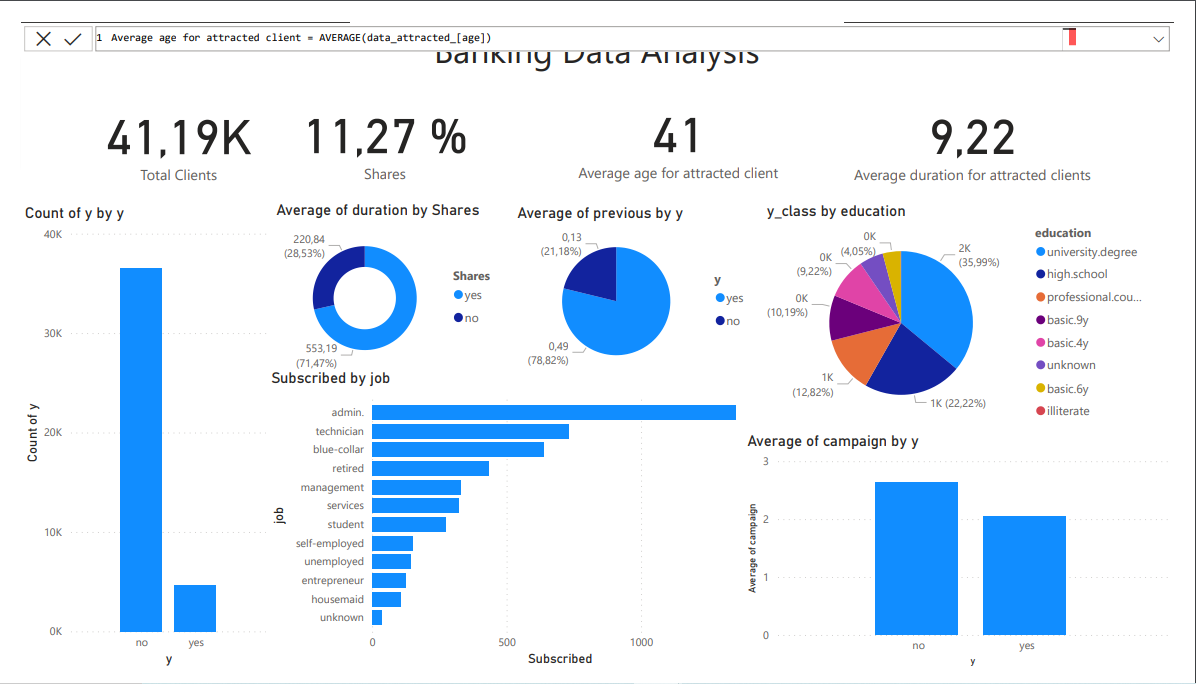

Layout of this report page (visuals, bound fields, positions):
{"tool":"powerbi","page":{"name":"OverView","canvas":[1280,720],"ordinal":1},"visuals":[{"type":"card","fields":{"Values":["CountNonNull(data.default)"]},"box":[71.8,76.3,208.5,109.4],"z":0},{"type":"textbox","box":[0,213.5,280,150],"z":1000},{"type":"card","fields":{"Values":["data_attracted_.Share for attracted clients"]},"box":[279.1,75.2,250.6,109.4],"z":2000},{"type":"card","fields":{"Values":["data_attracted_.Average age for attracted client"]},"box":[546.4,74,367.2,109.1],"z":3000},{"type":"card","fields":{"Values":["data_attracted_.Average duration for attracted clients"]},"box":[875.8,73.8,361.8,113.2],"z":4000},{"type":"columnChart","fields":{"Category":["data.y1"],"Y":["CountNonNull(data.y)"]},"box":[0,201.8,279.4,518.2],"z":5000},{"type":"donutChart","fields":{"Y":["Avg(data.duration)1"],"Category":["data.y1"]},"box":[279.4,198.2,267.1,196.9],"z":6000},{"type":"pieChart","fields":{"Category":["data.y1"],"Y":["Avg(data.previous)"]},"box":[546.5,201.8,270.8,196.9],"z":7000},{"type":"barChart","fields":{"Category":["data.job1"],"Y":["Sum(data.y_class)"]},"box":[273.5,384.9,553.3,335.1],"z":8000},{"type":"pieChart","fields":{"Category":["data.education"],"Y":["Sum(data.y_class)"]},"box":[823.3,199.7,436,249.7],"z":9000},{"type":"columnChart","fields":{"Category":["data.y"],"Y":["Avg(data.campaign)"]},"box":[802.6,454.3,477.4,265.5],"z":10000},{"type":"textbox","box":[365.9,0,548.2,66.8],"z":11000}]}

Visuals, with their boxes on the page's 1280x720 design canvas (x1, y1, x2, y2). These are canvas units, not pixel positions in the 1196x684 screenshot, which may show the page scaled, cropped or inside an application window:
card - CountNonNull(data.default): 72/76/280/186
textbox: 0/214/280/364
card - data_attracted_.Share for attracted clients: 279/75/530/185
card - data_attracted_.Average age for attracted client: 546/74/914/183
card - data_attracted_.Average duration for attracted clients: 876/74/1238/187
columnChart - data.y1 x CountNonNull(data.y): 0/202/279/720
donutChart - Avg(data.duration)1 x data.y1: 279/198/546/395
pieChart - data.y1 x Avg(data.previous): 546/202/817/399
barChart - data.job1 x Sum(data.y_class): 274/385/827/720
pieChart - data.education x Sum(data.y_class): 823/200/1259/449
columnChart - data.y x Avg(data.campaign): 803/454/1280/720
textbox: 366/0/914/67
